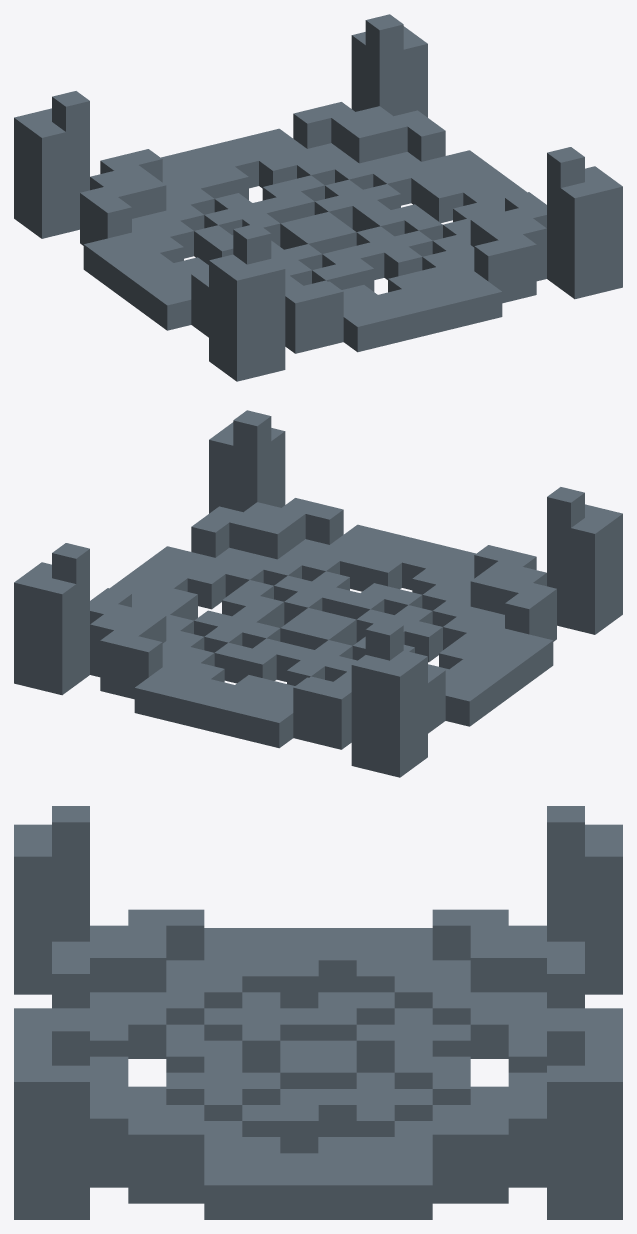
The model's file is ritual circle-0.obj.
3 renders of one model, top to bottom at view 1: azimuth 30°, elevation 25°; view 2: azimuth 150°, elevation 25°; view 3: azimuth 270°, elevation 25°, orthographic. The views are drawn at different scales.
Visible parts, largest first — view 1: ritual circle-0; view 2: ritual circle-0; view 3: ritual circle-0.
Part boxes in pixels (x1,y1,x2,y2): ritual circle-0: (14, 14, 622, 381); ritual circle-0: (14, 410, 622, 777); ritual circle-0: (14, 806, 622, 1219).
Bounding box in the file's own units: 16 × 5 × 16.
1 material, 1 textured.
